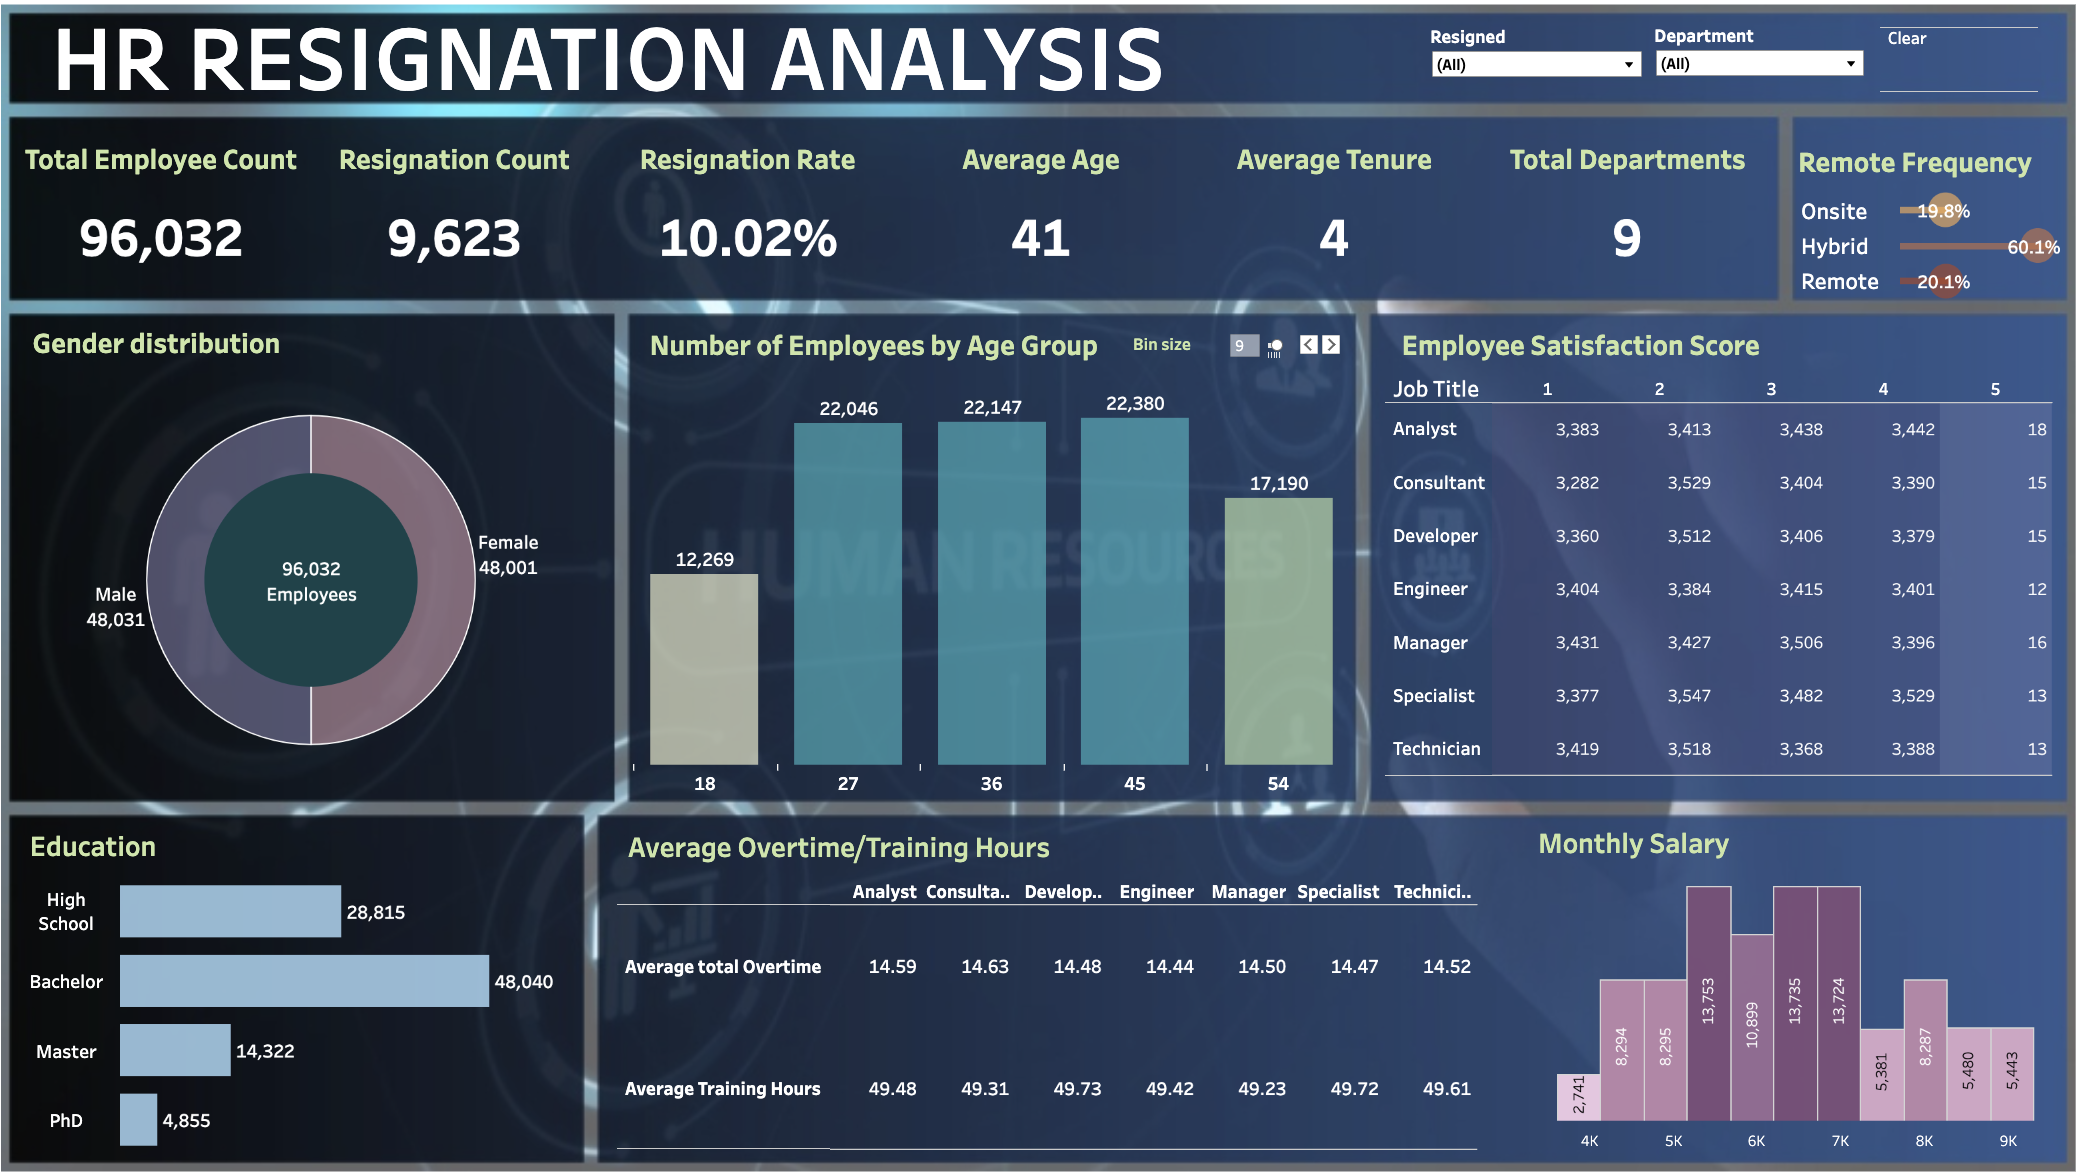

Layout of this report page (visuals, bound fields, positions):
{"tool":"tableau","page":{"name":"HR Analitycs Dashboard","canvas":[1580,900],"ordinal":0},"visuals":[{"type":"image","param":"Image/HR.png","box":[8,8,1564,884]},{"type":"text","box":[22,21,1018,59]},{"type":"filter","title":"Gender distribution","param":"[federated.011cdvq0ukkdze1fbtg051e4k35p].[none:Department:nk]","box":[1252,26,158,45]},{"type":"filter","title":"Gender distribution","param":"[federated.011cdvq0ukkdze1fbtg051e4k35p].[none:Resigned:nk]","box":[1084,27,160,50]},{"type":"worksheet","title":"Clear","mark":"Automatic","rows":["Calculation_109071565524246537","Resigned","Education_Level","Calculation_109071565485580294","Department","Gender"],"box":[1421,29,120,49]},{"type":"worksheet","title":"KPI","mark":"Automatic","box":[22,101,1320,128]},{"type":"worksheet","title":"Remote Frequency","mark":"Automatic","rows":["Calculation_109071565485580294"],"cols":["F1","F1"],"box":[1356,110,202,123]},{"type":"worksheet","title":"Gender distribution","mark":"Pie","cols":["Calculation_109071565461307396","Calculation_109071565461307396"],"box":[23,246,443,352]},{"type":"worksheet","title":"Number of Employees by Age Group","mark":"Automatic","rows":["F1"],"cols":["Age (bin)"],"box":[486,247,538,358]},{"type":"worksheet","title":"Employee Satisfaction Score","mark":"Square","rows":["Job_Title"],"cols":["Employee_Satisfaction_Score (bin)"],"box":[1050,247,515,357]},{"type":"parameter","param":"[Parameters].[Parameter 1]","box":[861,258,159,26]},{"type":"worksheet","title":"Monthly Salary","mark":"Automatic","rows":["Monthly_Salary"],"cols":["Monthly Salary (bin)"],"box":[1161,621,393,258]},{"type":"worksheet","title":"Education","mark":"Automatic","rows":["Education_Level"],"cols":["F1"],"box":[21,623,422,252]},{"type":"worksheet","title":"Average Overtime/Training Hours","mark":"Automatic","cols":["Job_Title"],"box":[474,624,646,247]}]}

Visuals, with their boxes in screenshot pixels (x1, y1, x2, y2), scaled from the page's 1580x900 canvas onto the 2078x1174 screenshot:
image: pyautogui.locateOnScreen(11, 10, 2067, 1164)
text: pyautogui.locateOnScreen(29, 27, 1368, 104)
"Gender distribution" filter: pyautogui.locateOnScreen(1647, 34, 1854, 93)
"Gender distribution" filter: pyautogui.locateOnScreen(1426, 35, 1636, 100)
"Clear" worksheet: pyautogui.locateOnScreen(1869, 38, 2027, 102)
"KPI" worksheet: pyautogui.locateOnScreen(29, 132, 1765, 299)
"Remote Frequency" worksheet: pyautogui.locateOnScreen(1783, 143, 2049, 304)
"Gender distribution" worksheet (Pie marks): pyautogui.locateOnScreen(30, 321, 613, 780)
"Number of Employees by Age Group" worksheet: pyautogui.locateOnScreen(639, 322, 1347, 789)
"Employee Satisfaction Score" worksheet (Square marks): pyautogui.locateOnScreen(1381, 322, 2058, 788)
parameter: pyautogui.locateOnScreen(1132, 337, 1341, 370)
"Monthly Salary" worksheet: pyautogui.locateOnScreen(1527, 810, 2044, 1147)
"Education" worksheet: pyautogui.locateOnScreen(28, 813, 583, 1141)
"Average Overtime/Training Hours" worksheet: pyautogui.locateOnScreen(623, 814, 1473, 1136)
